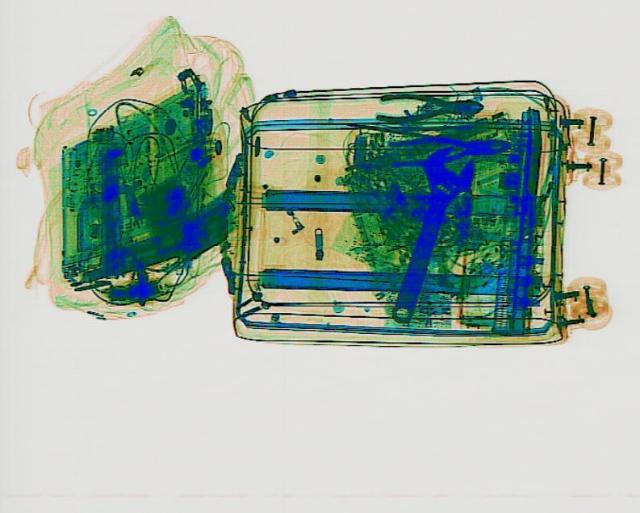Pliers: (384, 128, 511, 168), (373, 90, 483, 120)
Wrench: (372, 142, 481, 325)
